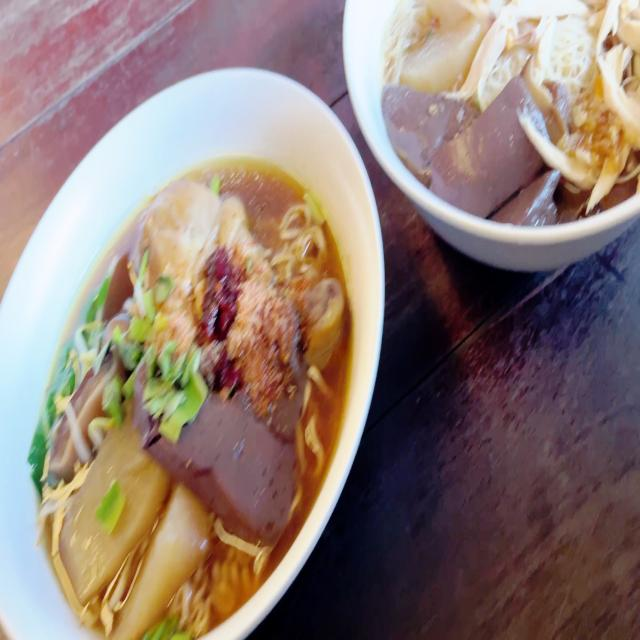boiled_chicken_blood_jelly: (393, 78, 560, 220), (173, 384, 298, 527)
chicken_drumstick: (136, 186, 342, 362)
chicken_shredded: (598, 0, 640, 152), (526, 116, 601, 184), (492, 0, 589, 26)
daikon_radish: (59, 437, 212, 610), (402, 0, 488, 83)
noodle: (25, 126, 362, 638), (375, 0, 640, 229)
